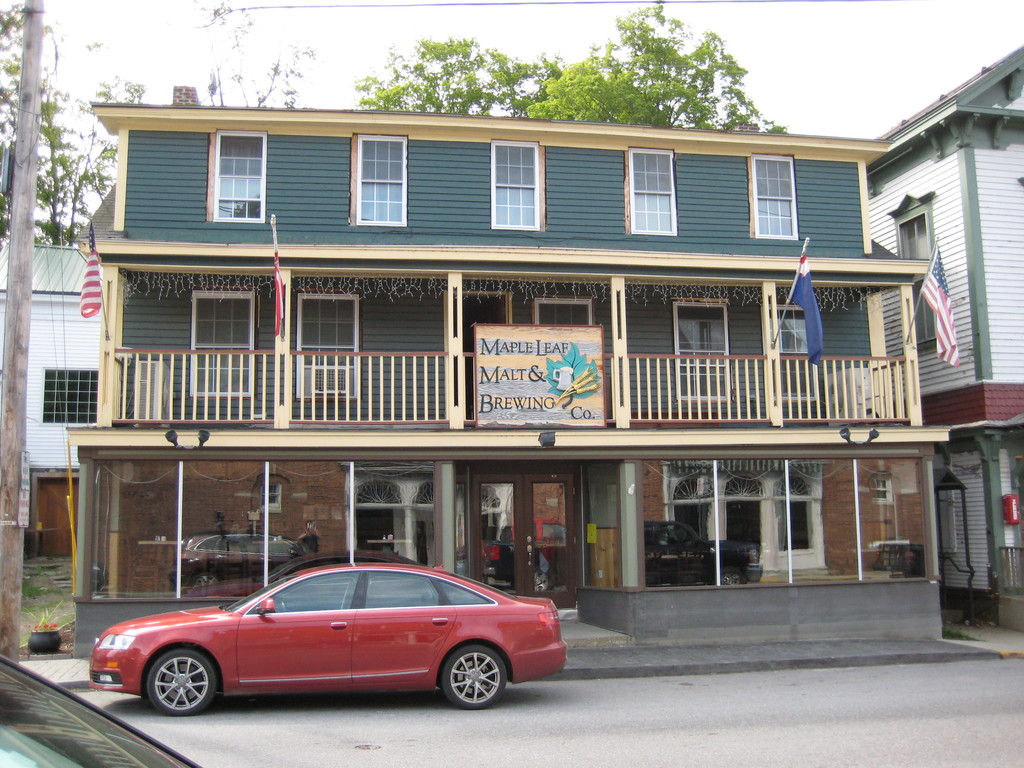Car: (85, 563, 577, 722)
